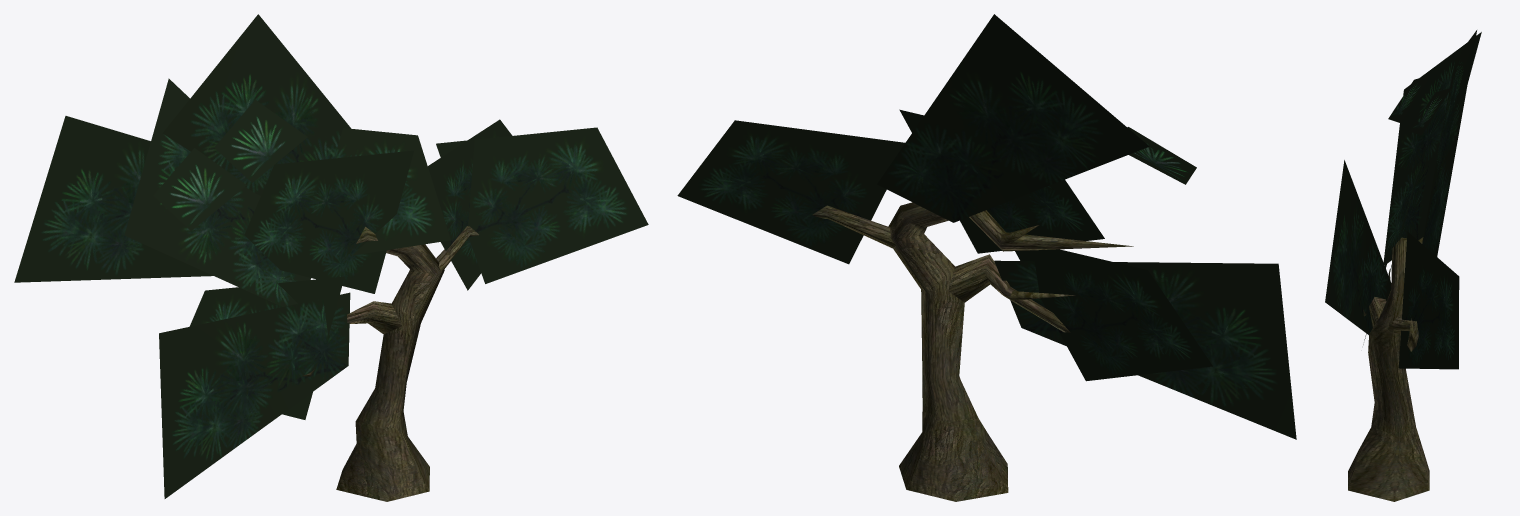
The model's file is yw_wuliangshan_yingkesong01.FBX.
3 renders of one model, left to right at view 1: azimuth 30°, elevation 25°; view 2: azimuth 150°, elevation 25°; view 3: azimuth 270°, elevation 25°, orthographic. The views are drawn at different scales.
Visible parts, largest first — view 1: yw_wuliangshan_yingkesong01; view 2: yw_wuliangshan_yingkesong01; view 3: yw_wuliangshan_yingkesong01.
Boxes of the visible parts, x1,y1,x2,y2 form: yw_wuliangshan_yingkesong01: [14, 14, 648, 501]; yw_wuliangshan_yingkesong01: [677, 14, 1296, 501]; yw_wuliangshan_yingkesong01: [1325, 30, 1481, 501].
Bounding box in the file's own units: 959 × 736 × 290.
